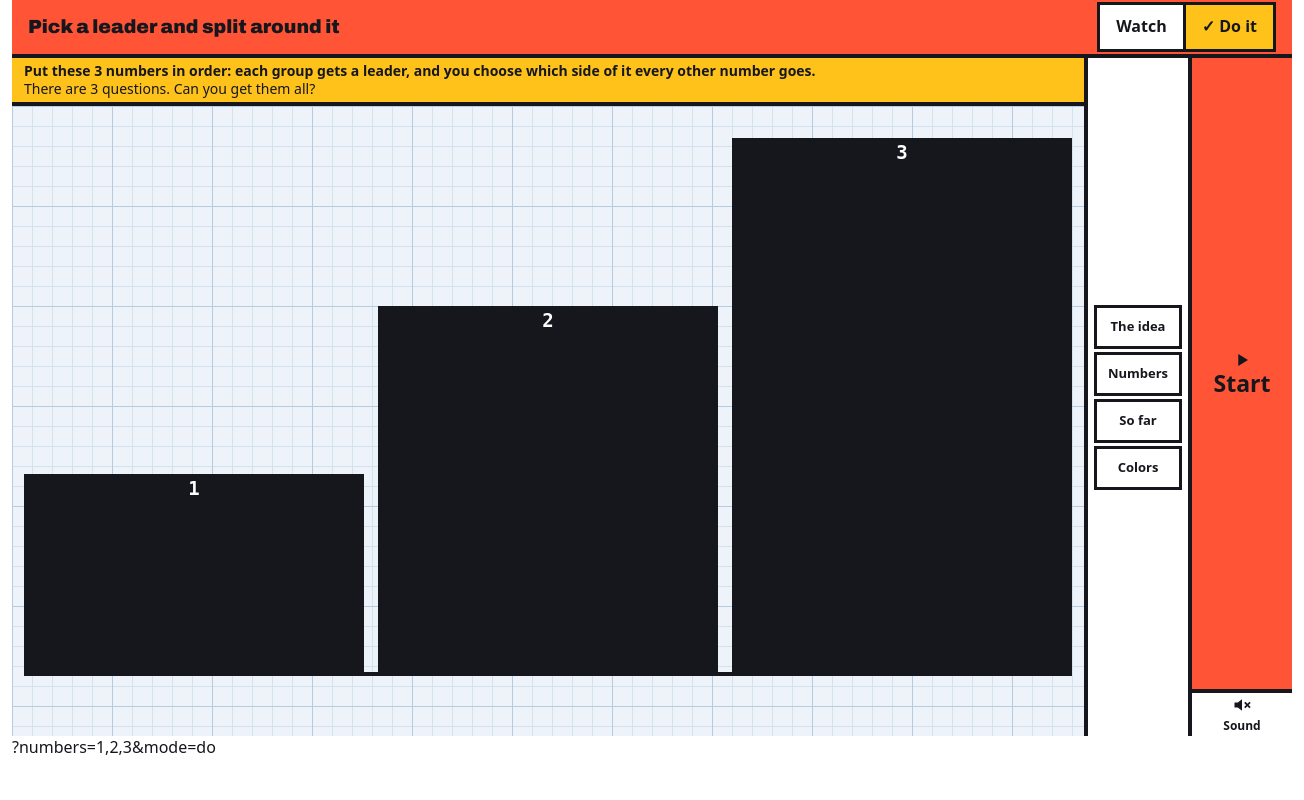
Test: quick sort: picking the leader › phone true: the finish says where to change the leader only on a phone
Click the button "Start".
click(1242, 373)  # box x1=1192 y1=58 x2=1292 y2=689
Wait 4000 ms
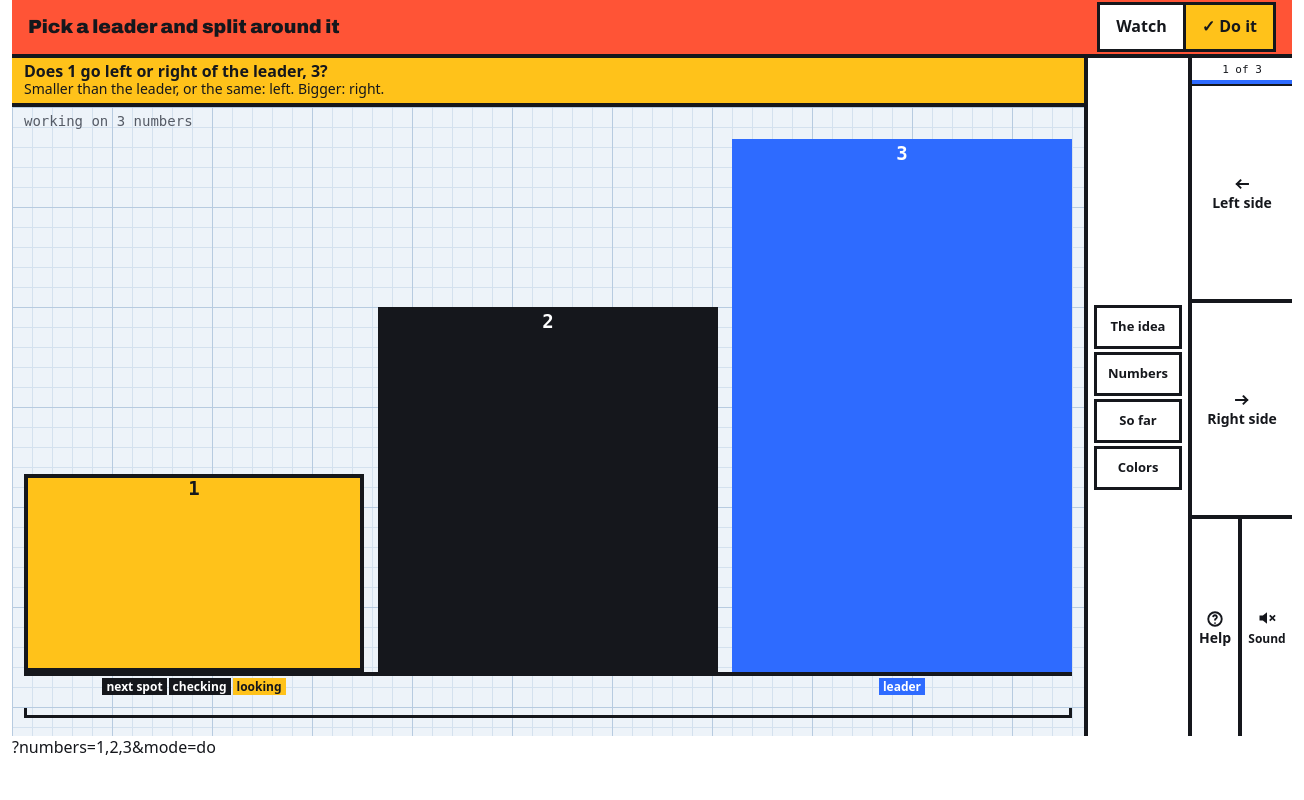
Type keys "l"
Wait 2000 ms
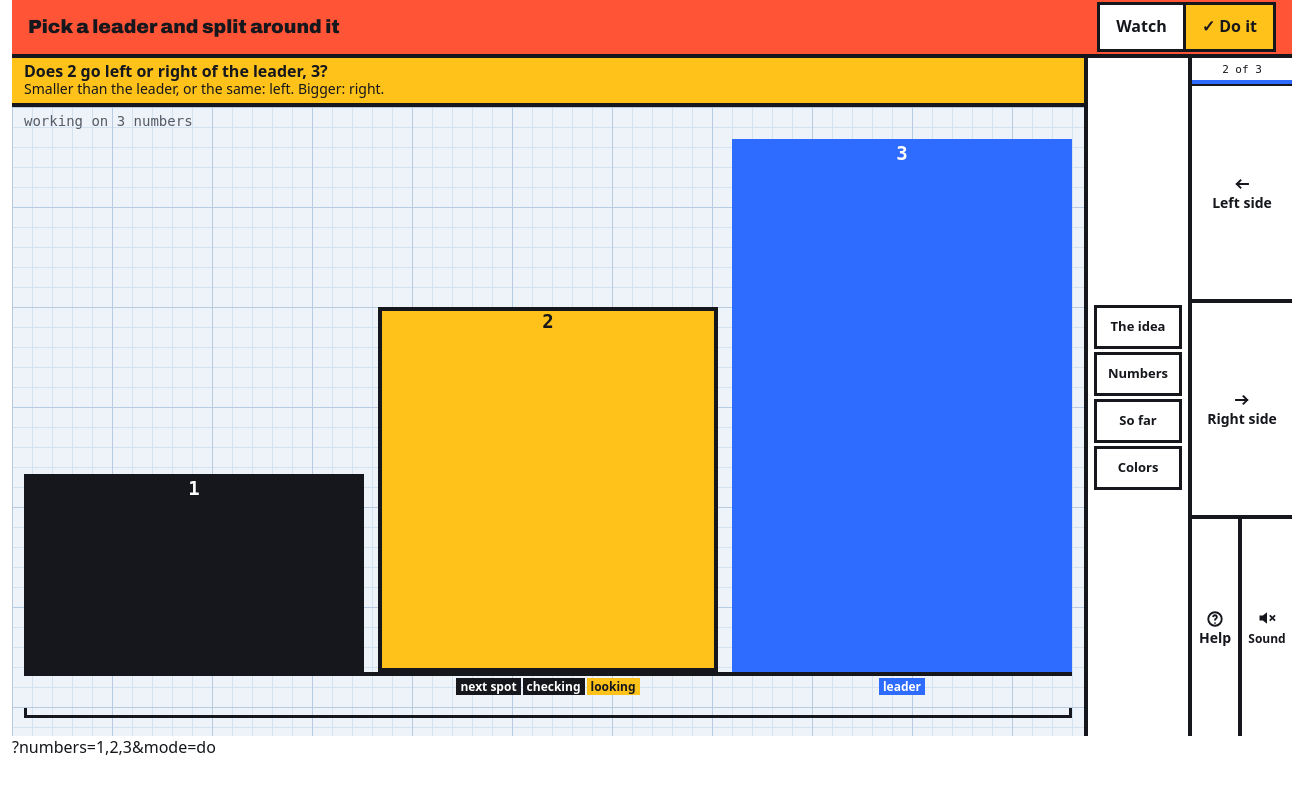
Type keys "l"
Wait 6000 ms
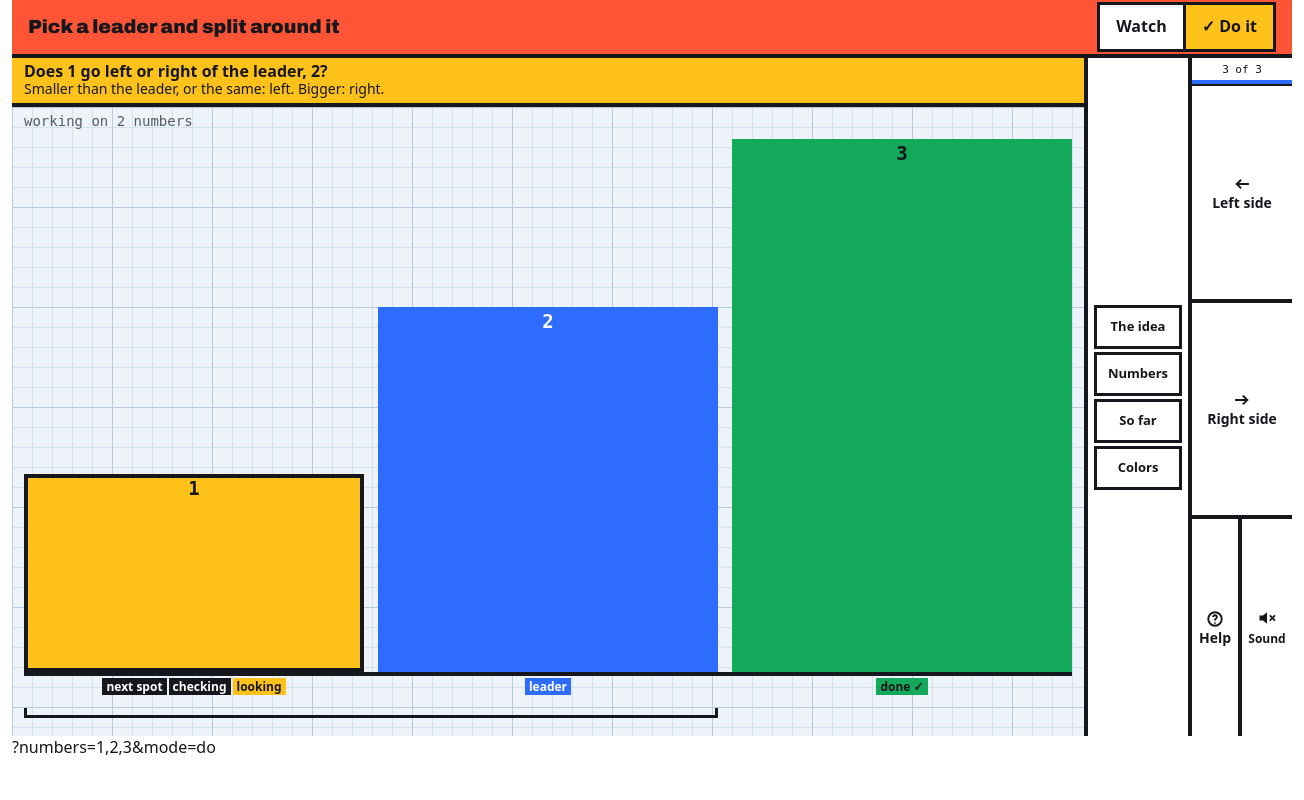
Type keys "l"
Wait 6000 ms
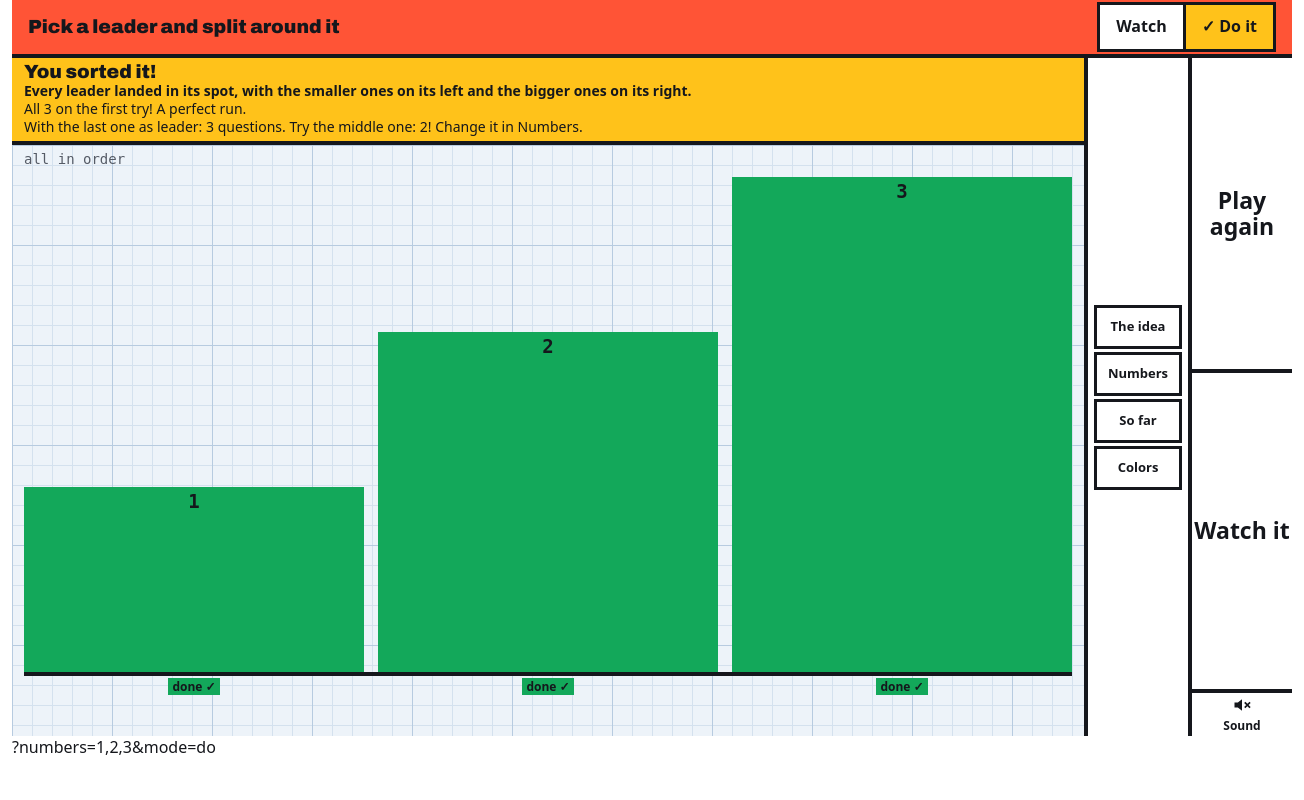
Expected: the element with class "do-it-panel" shows "With the last one as leader: 3 questions. Try the middle one: 2! Change it in Numbers.", x1=24 y1=117 x2=583 y2=136
